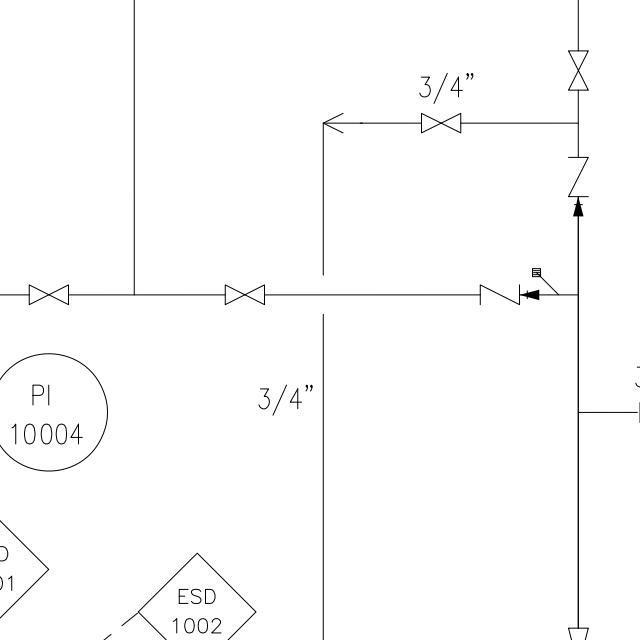GV: (22, 279, 74, 311), (565, 42, 592, 96), (217, 282, 270, 309), (416, 107, 465, 135)
